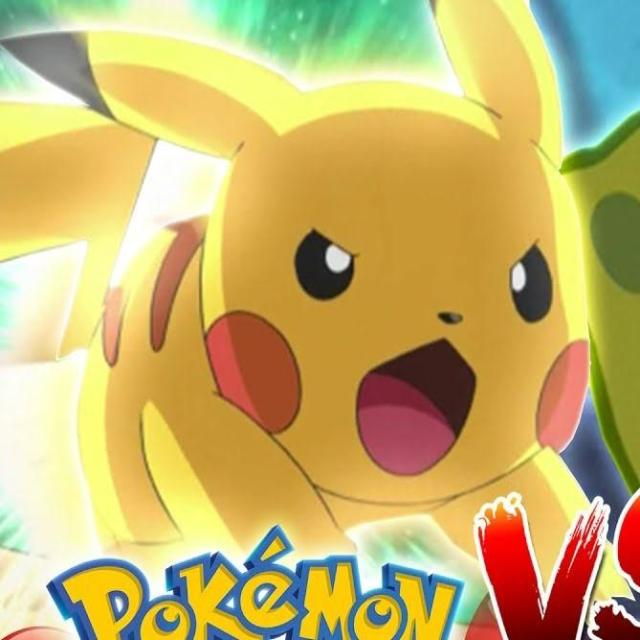pikachu: (0, 1, 591, 558)
